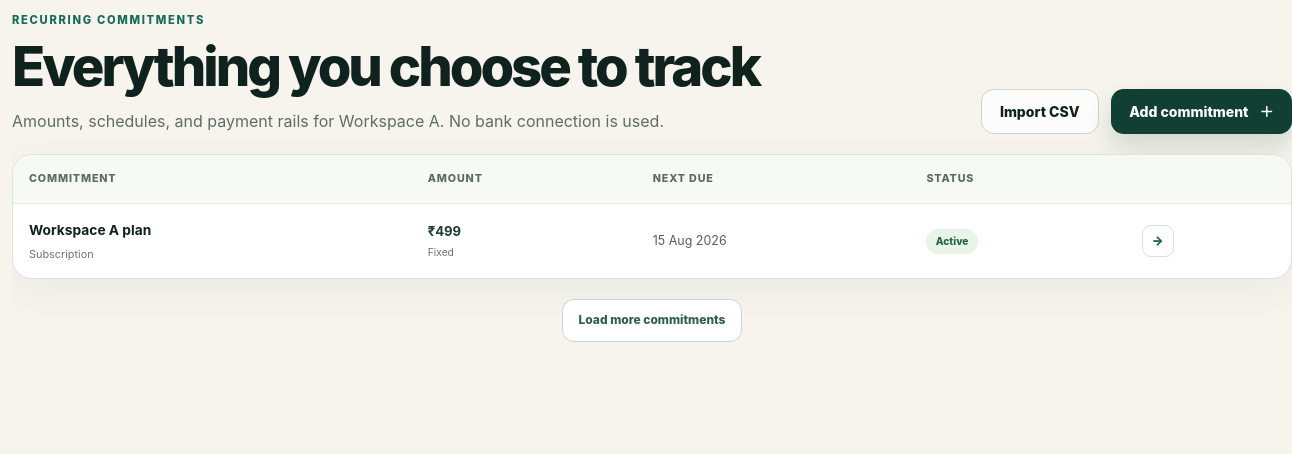
Test: CommitmentListScreen › keeps loaded rows and offers a safe retry after pagination fails
Expected: the text "Workspace A plan" is shown, [29,222,151,238]
Click the button "Load more commitments" at (652, 320), box [562,299,742,342]
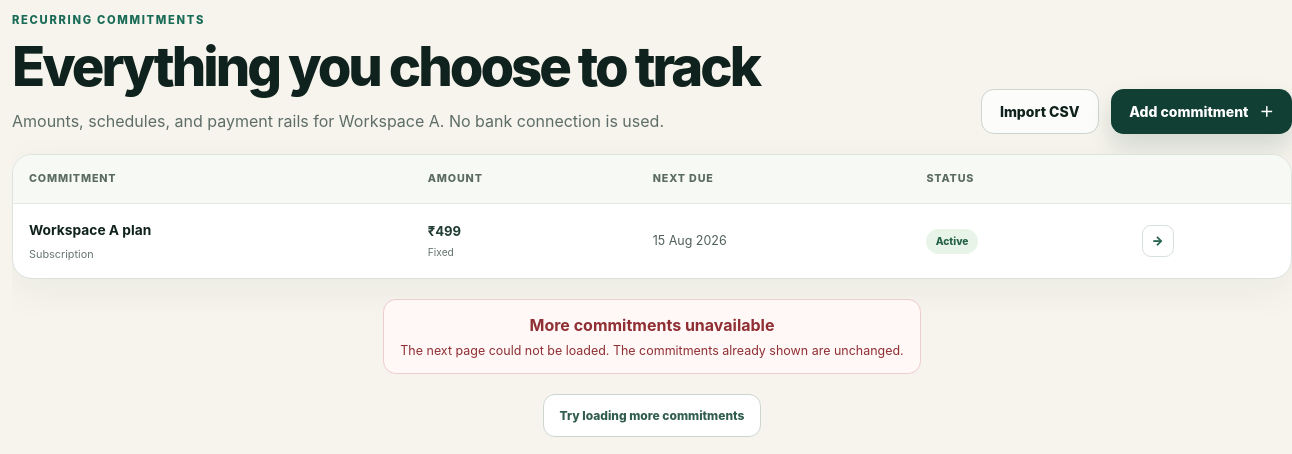
Expected: the text "Workspace A plan" is shown, [29,222,151,238]
Expected: the text "More commitments unavailable" shows "The next page could not be loaded. The commitments already shown are unchanged.", [400,343,904,358]
Click the button "Try loading more commitments" at (652, 416), box [542,394,761,437]
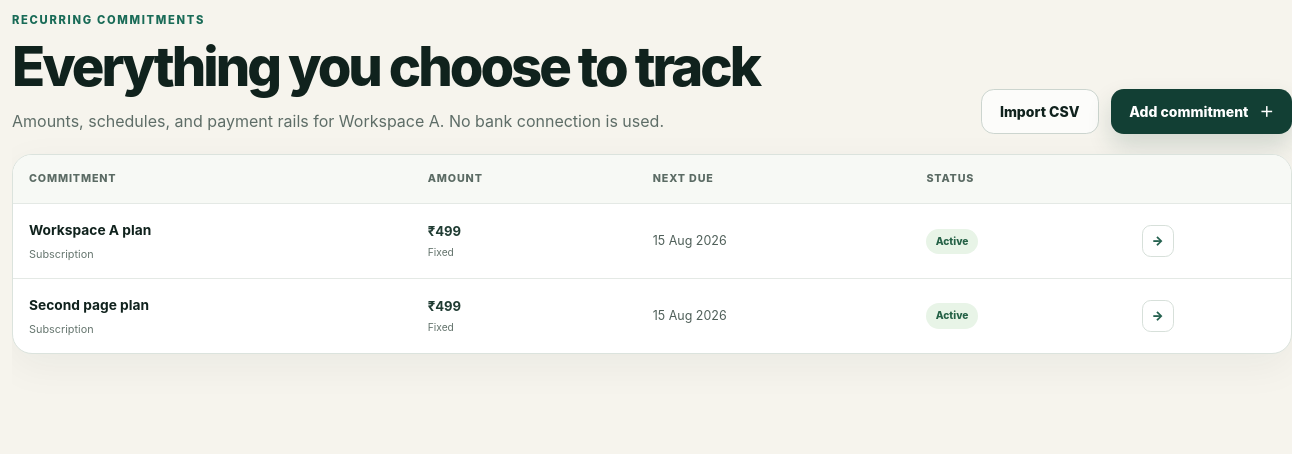
Expected: the text "Second page plan" is shown, [29,297,149,313]
Expected: the text "More commitments unavailable" is gone
